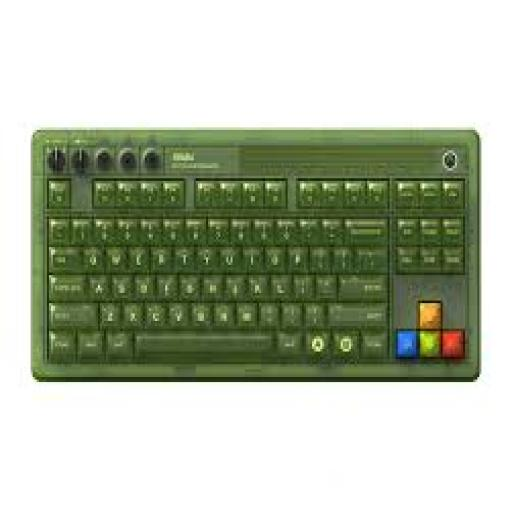keyboard: (31, 130, 479, 380)
